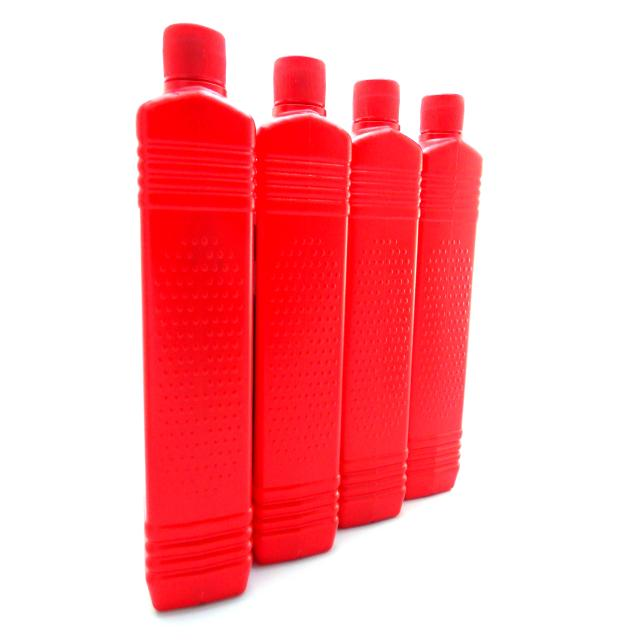plastic: (146, 67, 478, 564)
